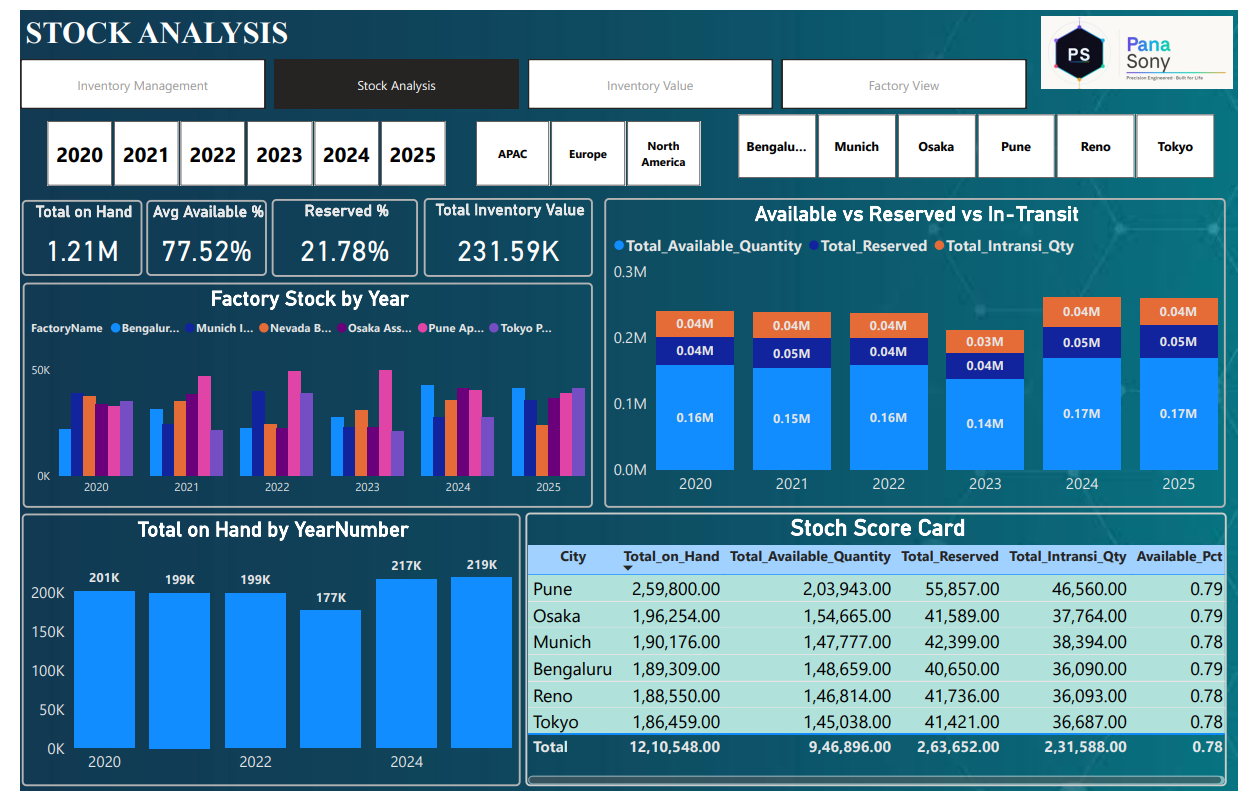

Layout of this report page (visuals, bound fields, positions):
{"tool":"powerbi","page":{"name":"Stock Analysis","canvas":[1280,820],"ordinal":1},"visuals":[{"type":"textbox","box":[0,0,696.7,51.4],"z":0},{"type":"image","box":[1068.6,0,211.7,88.2],"z":1000},{"type":"pageNavigator","box":[0,50.7,1058.2,52.2],"z":2000},{"type":"slicer","fields":{"Values":["InventoryAnalytics.YearNumber"]},"box":[1.5,109.1,469.7,81.8],"z":3000},{"type":"slicer","fields":{"Values":["InventoryAnalytics.Region"]},"box":[453,109.1,286.4,81.8],"z":4000},{"type":"slicer","fields":{"Values":["InventoryAnalytics.City"]},"box":[728.8,101.5,551.5,81.8],"z":5000},{"type":"card","title":"Total on Hand","fields":{"Values":["InventoryAnalytics.Total_on_Hand"]},"box":[1.4,198.6,126.1,80.4],"z":6000},{"type":"card","title":"Avg Available %","fields":{"Values":["InventoryAnalytics.Avg_Available %"]},"box":[131.8,198.6,127.1,80.7],"z":7000},{"type":"card","title":"Reserved %","fields":{"Values":["InventoryAnalytics.Reserved_Pct"]},"box":[263.6,197.9,154.3,82.1],"z":8000},{"type":"card","title":"Total Inventory Value","fields":{"Values":["InventoryAnalytics.Total_Intransi_Qty"]},"box":[424.2,197,177.3,83.3],"z":9000},{"type":"clusteredColumnChart","title":"Factory Stock by Year","fields":{"Category":["InventoryAnalytics.YearNumber"],"Y":["InventoryAnalytics.Total_on_Hand"],"Series":["InventoryAnalytics.FactoryName"]},"box":[1.5,286.4,600,236.4],"z":10000},{"type":"columnChart","title":"Available vs Reserved vs In-Transit","fields":{"Category":["InventoryAnalytics.YearNumber"],"Y":["InventoryAnalytics.Total_Available_Quantity","InventoryAnalytics.Total_Reserved","InventoryAnalytics.Total_Intransi_Qty"]},"box":[613.6,197,654.5,325.8],"z":11000},{"type":"clusteredColumnChart","title":"Total on Hand by YearNumber","fields":{"Category":["InventoryAnalytics.YearNumber"],"Y":["InventoryAnalytics.Total_on_Hand"]},"box":[1.2,528.8,524.7,287.1],"z":12000},{"type":"tableEx","title":"Stoch Score Card","fields":{"Values":["InventoryAnalytics.City","InventoryAnalytics.Total_on_Hand","InventoryAnalytics.Total_Available_Quantity","InventoryAnalytics.Total_Reserved","InventoryAnalytics.Total_Intransi_Qty","InventoryAnalytics.Available_Pct"]},"box":[531.3,528.4,737.3,288.1],"z":13000}]}

Visuals, with their boxes in screenshot pixels (x1, y1, x2, y2), scaled from the page's 1280x820 canvas onto the 1247x807 screenshot:
textbox: 0, 0, 679, 51
image: 1041, 0, 1246, 87
pageNavigator: 0, 50, 1031, 101
slicer - InventoryAnalytics.YearNumber: 1, 107, 459, 188
slicer - InventoryAnalytics.Region: 441, 107, 720, 188
slicer - InventoryAnalytics.City: 710, 100, 1246, 180
"Total on Hand" card: 1, 195, 124, 275
"Avg Available %" card: 128, 195, 252, 275
"Reserved %" card: 257, 195, 407, 276
"Total Inventory Value" card: 413, 194, 586, 276
"Factory Stock by Year" clusteredColumnChart: 1, 282, 586, 515
"Available vs Reserved vs In-Transit" columnChart: 598, 194, 1235, 515
"Total on Hand by YearNumber" clusteredColumnChart: 1, 520, 512, 803
"Stoch Score Card" tableEx: 518, 520, 1236, 804
